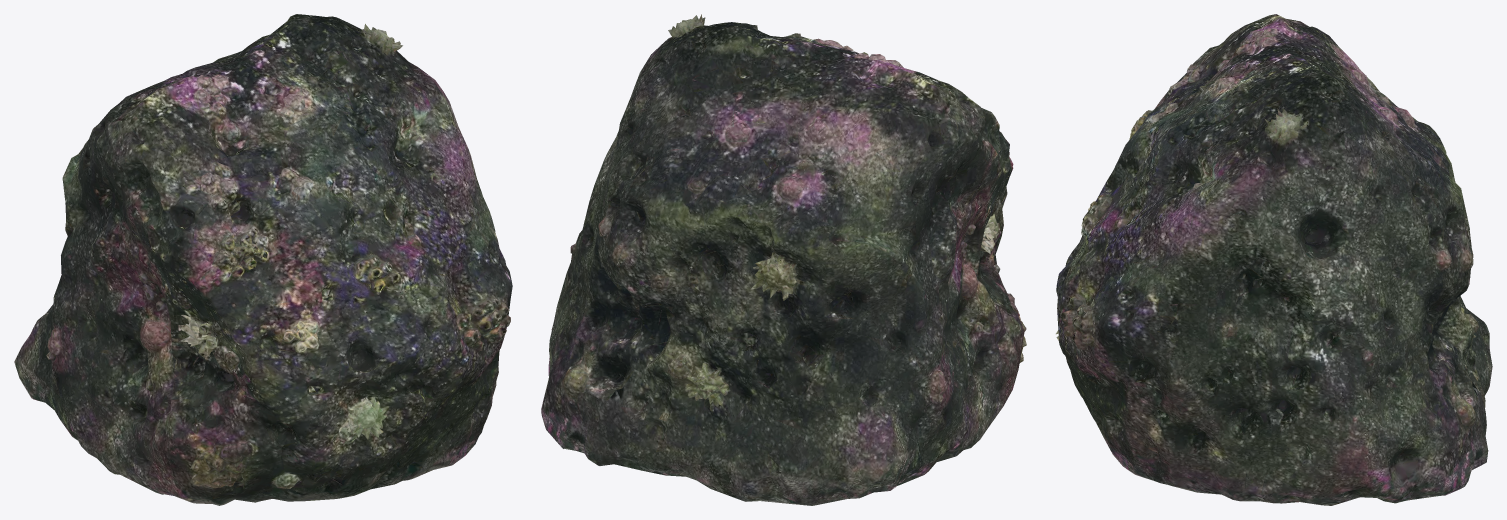
Rendered from coral_encrusted_rock.glb.
3 views of the same model, side by side, from view 1: azimuth 30°, elevation 25°; view 2: azimuth 150°, elevation 25°; view 3: azimuth 270°, elevation 25° (orthographic). The views are drawn at different scales.
Parts seen in each view (by area): view 1: Mesh1.0; view 2: Mesh1.0; view 3: Mesh1.0.
Boxes of the visible parts, x1,y1,x2,y2 form: Mesh1.0: (14, 14, 512, 505); Mesh1.0: (541, 14, 1026, 505); Mesh1.0: (1056, 14, 1492, 505).
Bounding box in the file's own units: 1.9 × 1.8 × 1.91.
1 material, 1 textured.
